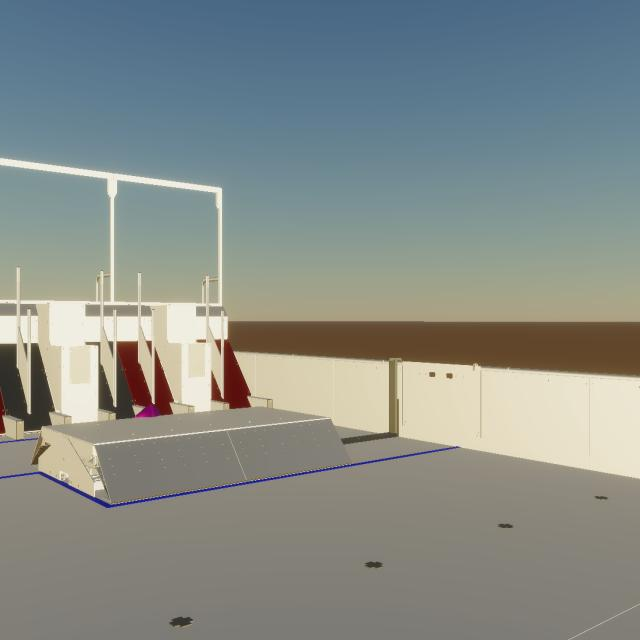frc_cone: (167, 419, 167, 420)
frc_cube: (135, 404, 160, 418)
